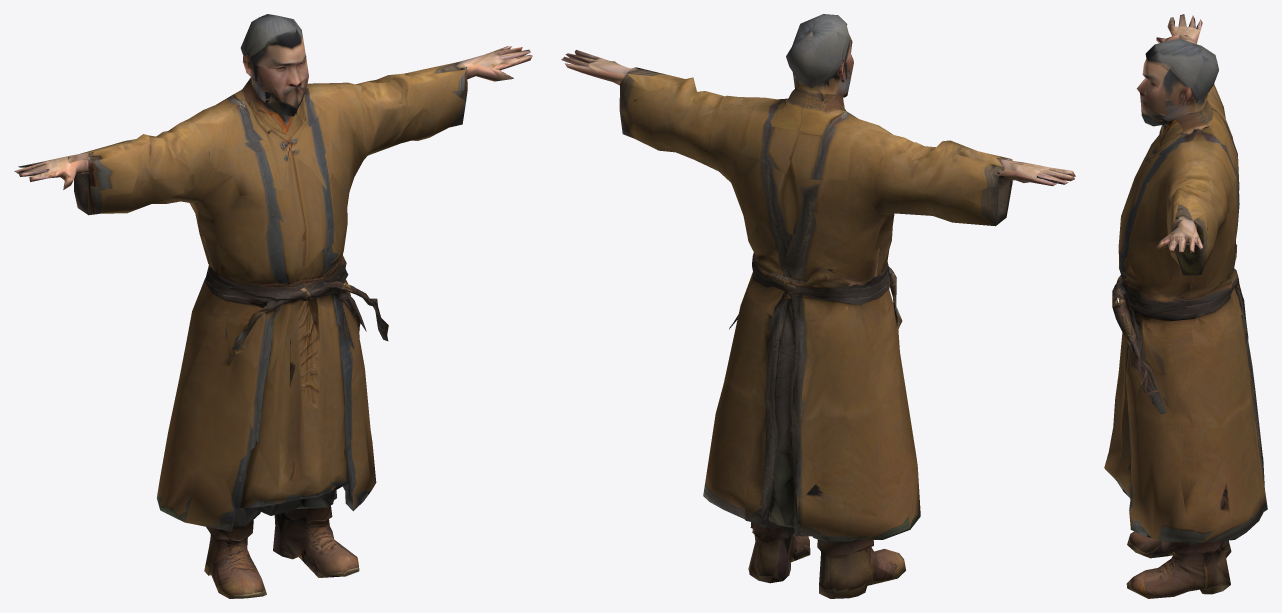
The model's file is mongolcivil.fbx.
3 views of the same model, side by side, from view 1: azimuth 30°, elevation 25°; view 2: azimuth 150°, elevation 25°; view 3: azimuth 270°, elevation 25° (orthographic). The views are drawn at different scales.
Parts seen in each view (by area): view 1: temp; view 2: temp; view 3: temp.
Boxes of the visible parts, x1,y1,x2,y2 form: temp: (14, 14, 532, 598); temp: (561, 14, 1075, 598); temp: (1104, 14, 1267, 598).
Size of the model in its own units: 193 by 200 by 56.26.
